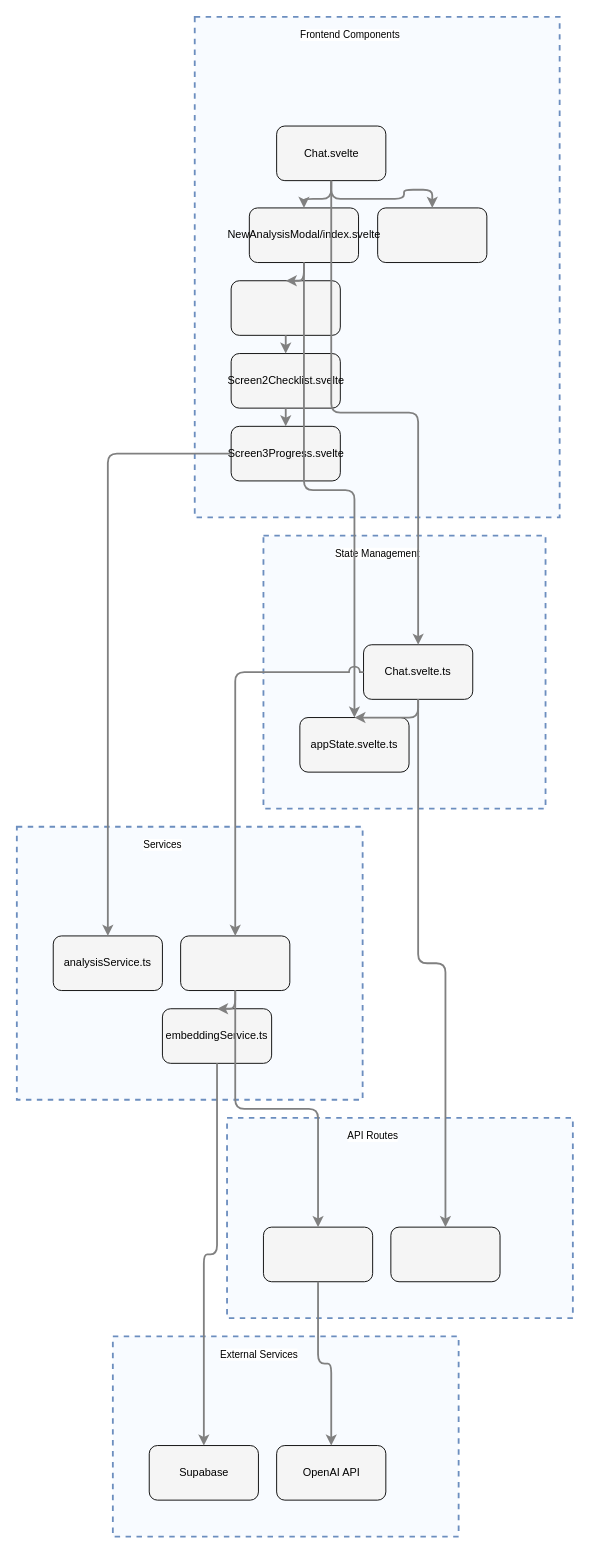
Image size: 589x1552. Some labels were removed from this diagram. Each missing label, with the centre of its shape:
/api/ai/+server.ts: (318,1254)
/api/chat/+server.ts: (445,1254)
aiService.ts: (235,963)
ChatInput.svelte: (432,235)
Screen1Input.svelte: (285,307)
